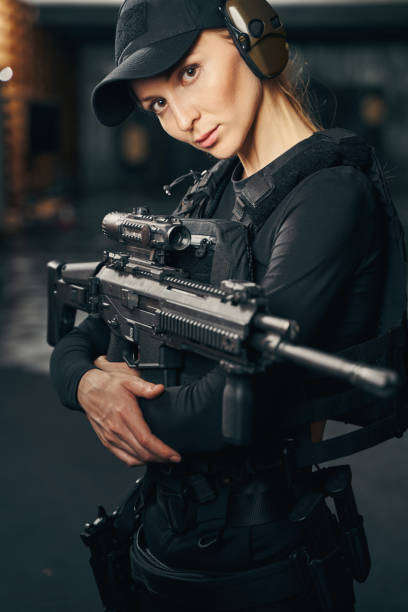gun: (46, 209, 399, 449)
